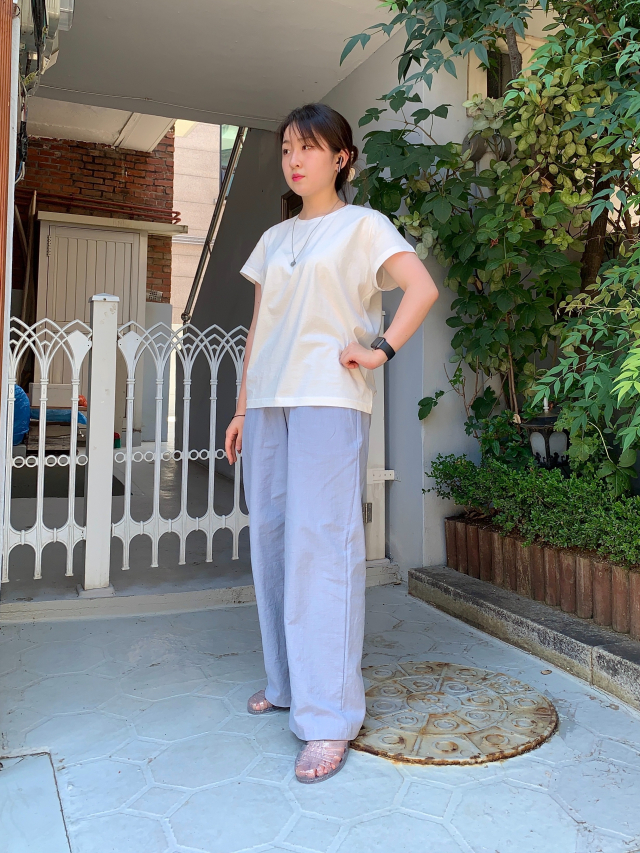earphone: (334, 148, 349, 173)
